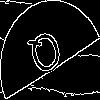Q: (25, 24, 68, 86)
